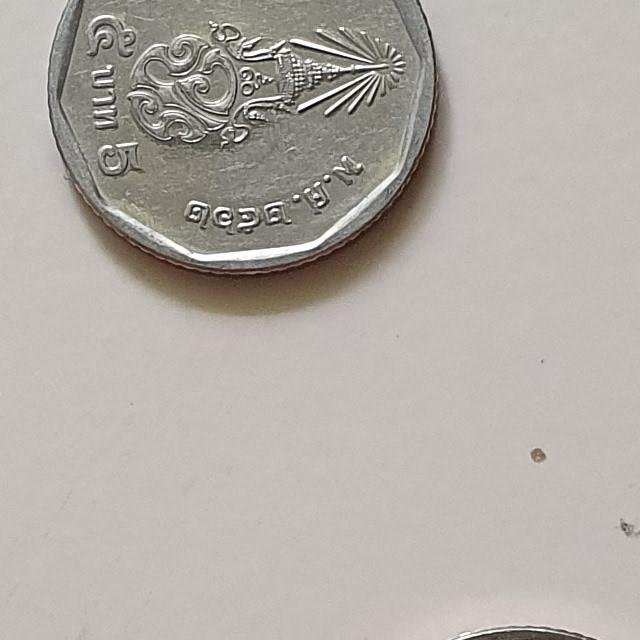5 Bath: (42, 1, 447, 290)
